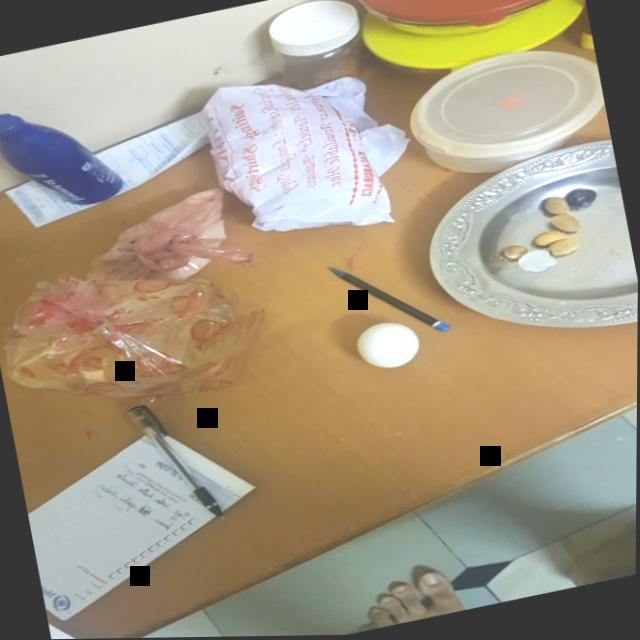eggs: (355, 314, 424, 377)
